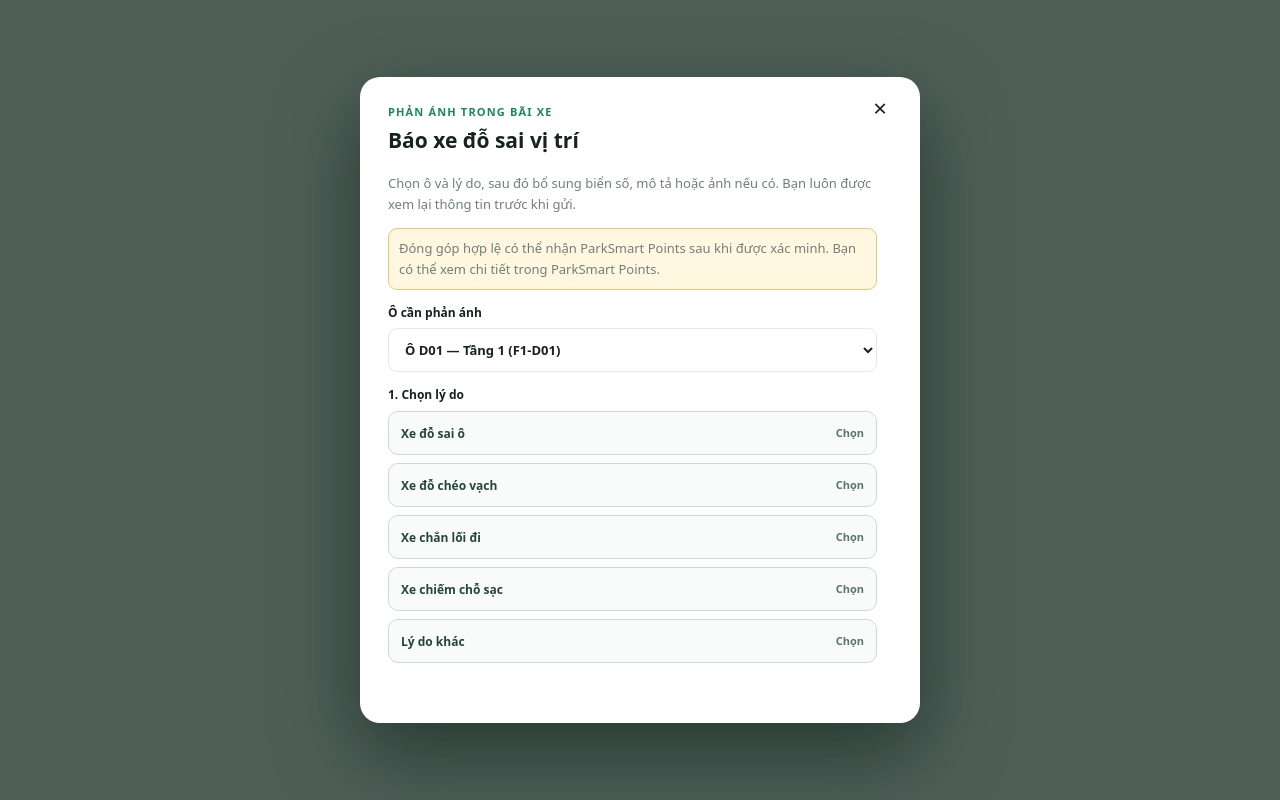
WrongParkingReportDialog › requires a five-character description only for OTHER
The image size is (1280, 800).
Click the button "Lý do khác": {"x": 433, "y": 641} left=388, top=620, right=877, bottom=664
(page scrolled)
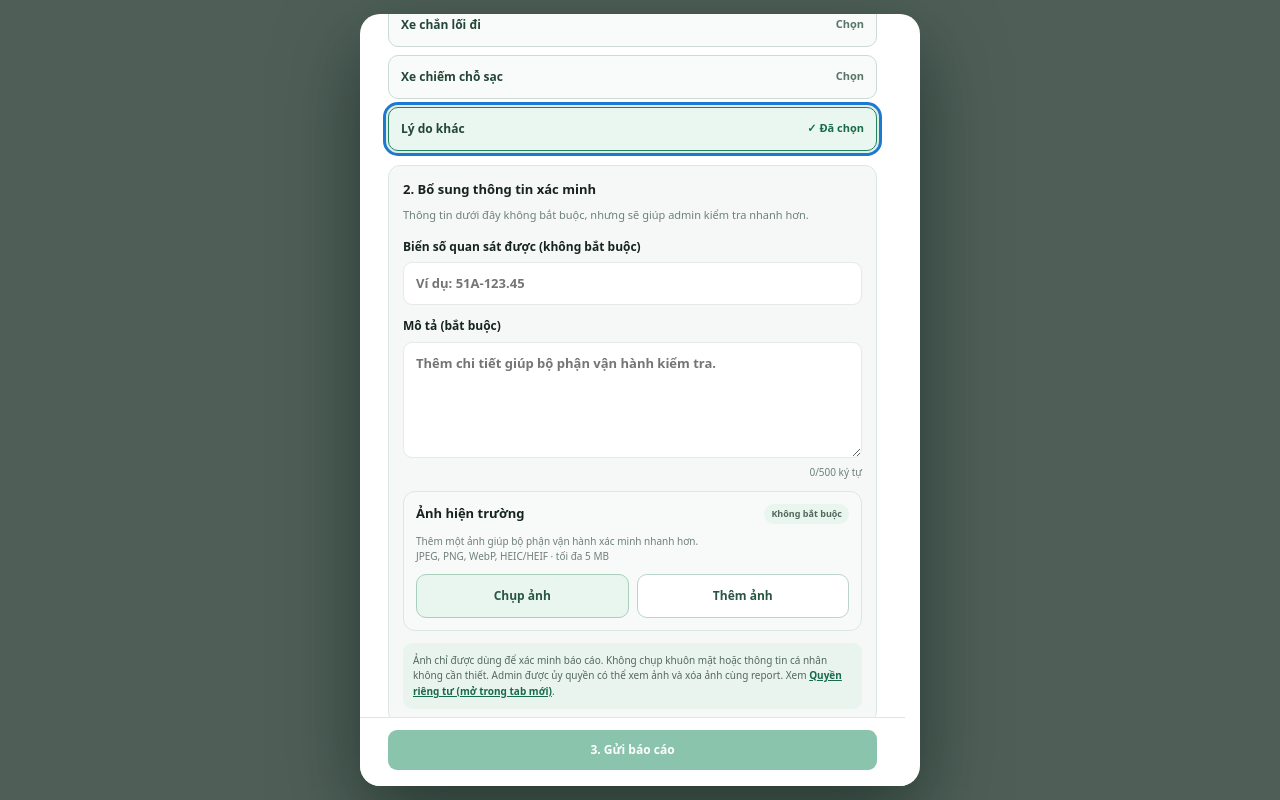
Expected: the button "3. Gửi báo cáo" is disabled, left=388, top=730, right=877, bottom=770
In the text box labelled "Mô tả (bắt buộc) 0/500 ký tự": {"x": 632, "y": 400} left=403, top=342, right=862, bottom=458, type "Sai"
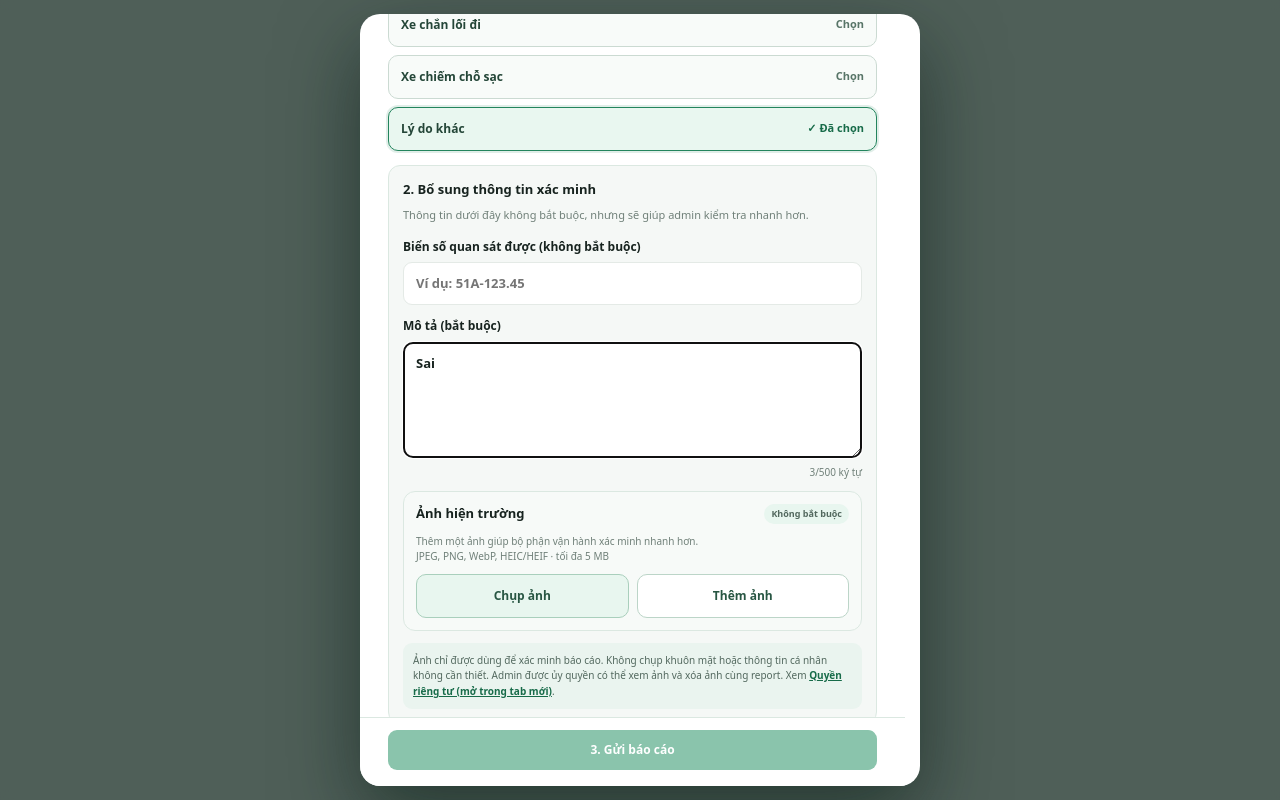
Expected: the button "3. Gửi báo cáo" is disabled, left=388, top=730, right=877, bottom=770
In the text box labelled "Mô tả (bắt buộc) 3/500 ký tự": {"x": 632, "y": 400} left=403, top=342, right=862, bottom=458, type " vị trí"
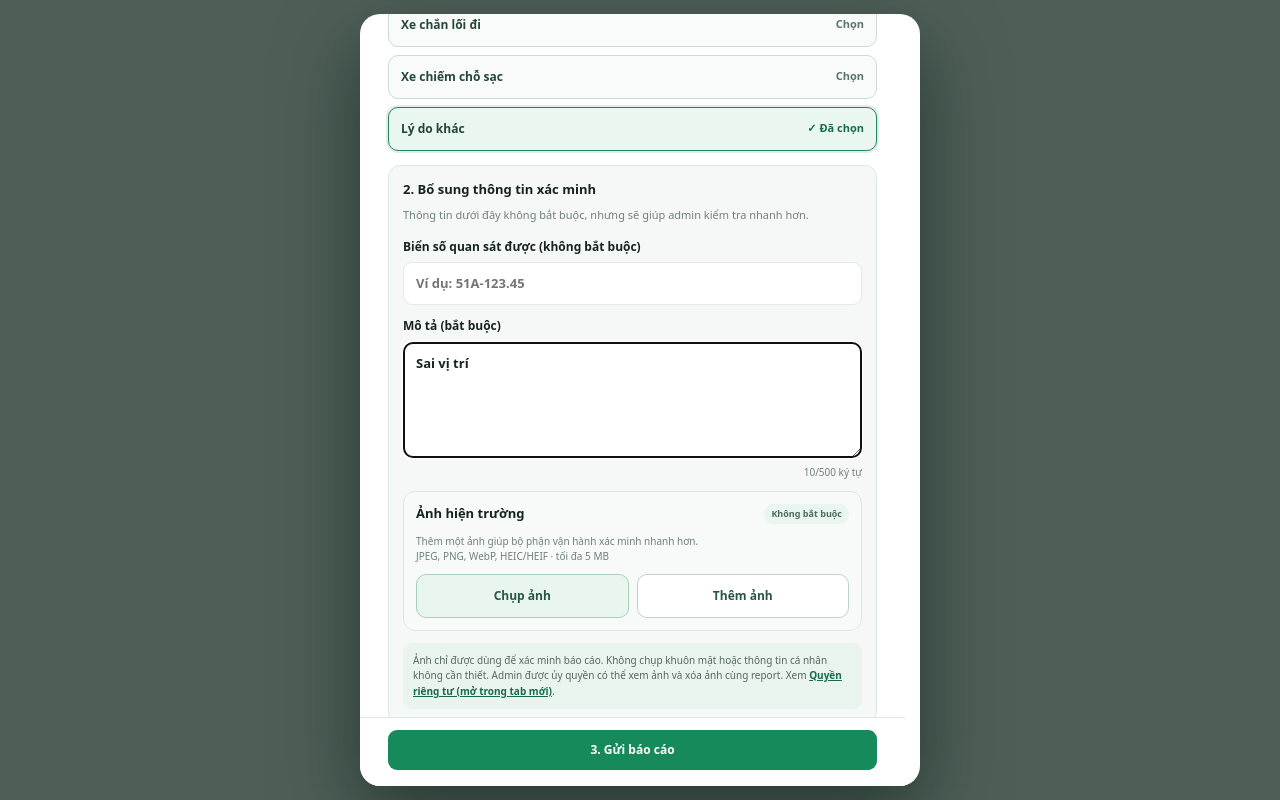
Expected: the button "3. Gửi báo cáo" is enabled, left=388, top=730, right=877, bottom=770
